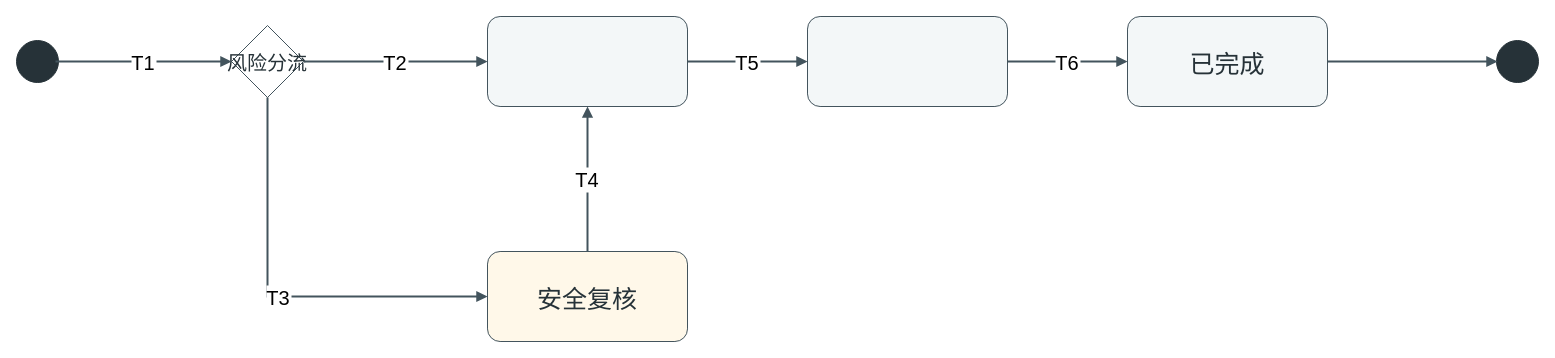
The diagram is 1555 pixels wide and 358 high, and some of its shapes have lost their labels. The shapes that lost their labels are listed below. From the top down, each one's box as (x1, y1, x2, y2) in pixels, then its label:
(486, 16, 688, 106): 待诊疗
(806, 16, 1008, 106): 诊疗中
